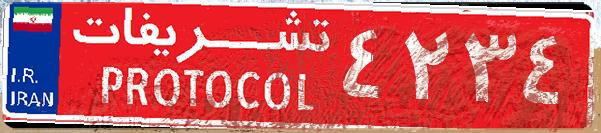2: (400, 20, 460, 115)
3: (460, 20, 520, 115)
4: (340, 20, 400, 115), (520, 20, 580, 115)
تشریفات: (60, 8, 340, 125)
